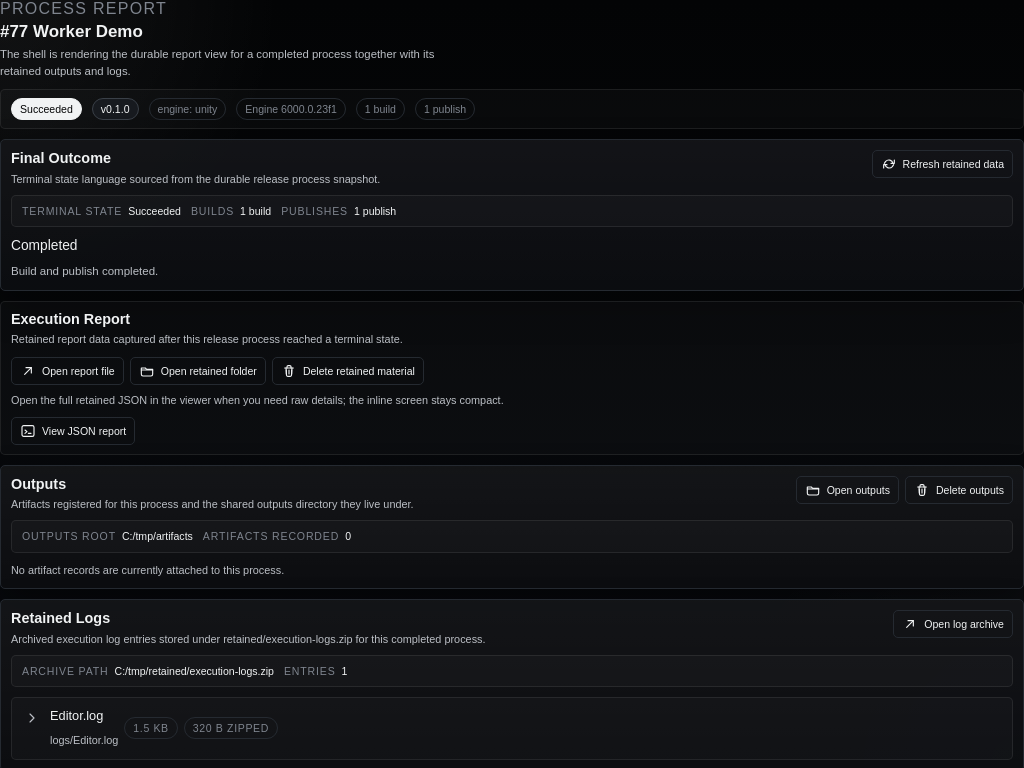
Scenario: ProcessDetailFocusScreen › keeps the last completed snapshot visible when a refresh fails
Expected: the button "View JSON report" is shown, 11,417 -> 135,445
What coordinates should you click on to do the following:
click the button "Refresh retained data"
I would click on:
 (942, 164)
Its box is 872,150 -> 1013,178.
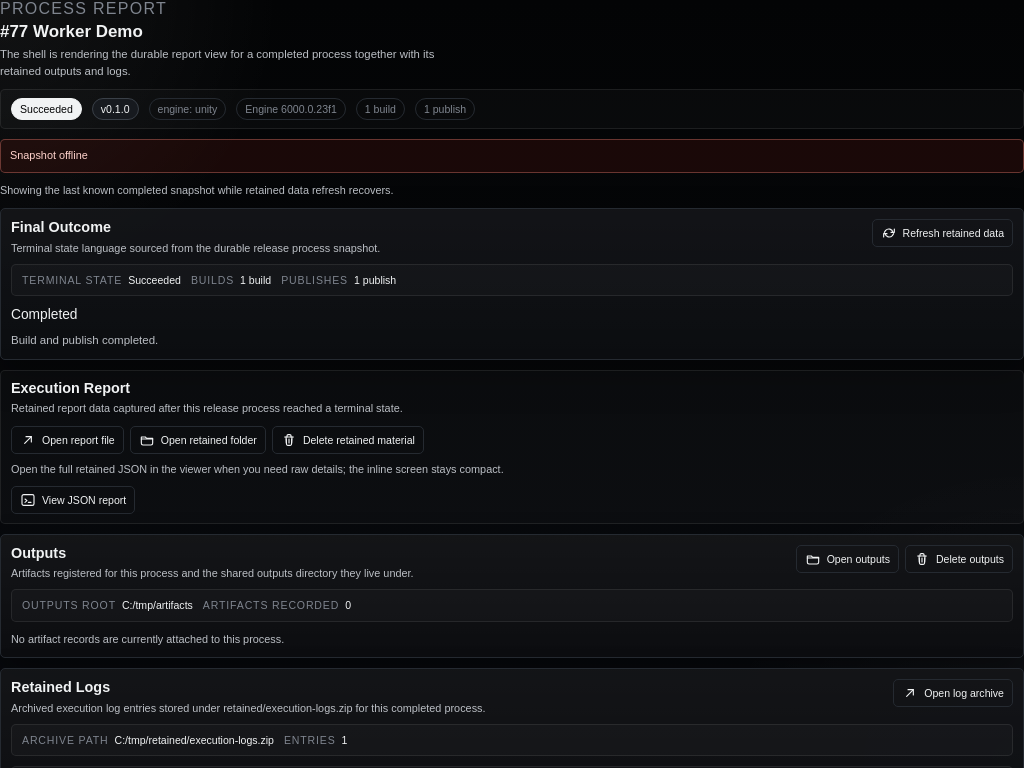
Expected: the button "View JSON report" is shown, 11,486 -> 135,514
Now the text "Snapshot offline" is shown, box 0,139 -> 1023,172
Now the text "Showing the last known completed snapshot while retained data refresh recovers." is shown, box 0,184 -> 394,196
